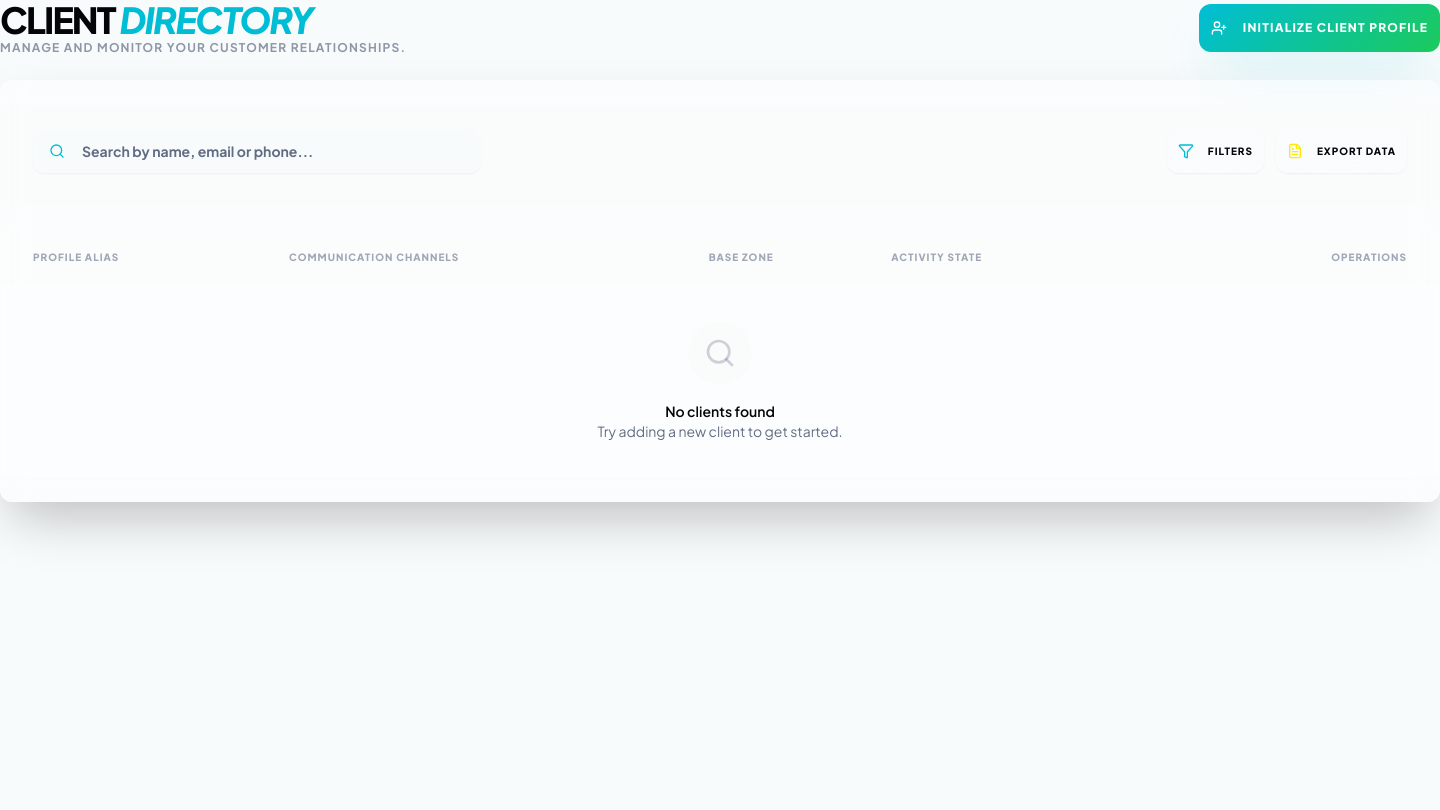
Test: ClientsPage › should open new client sheet when button is clicked
This screenshot has width=1440, height=810.
Click the button "Initialize Client Profile" at (1319, 28), box [1199, 4, 1439, 52]
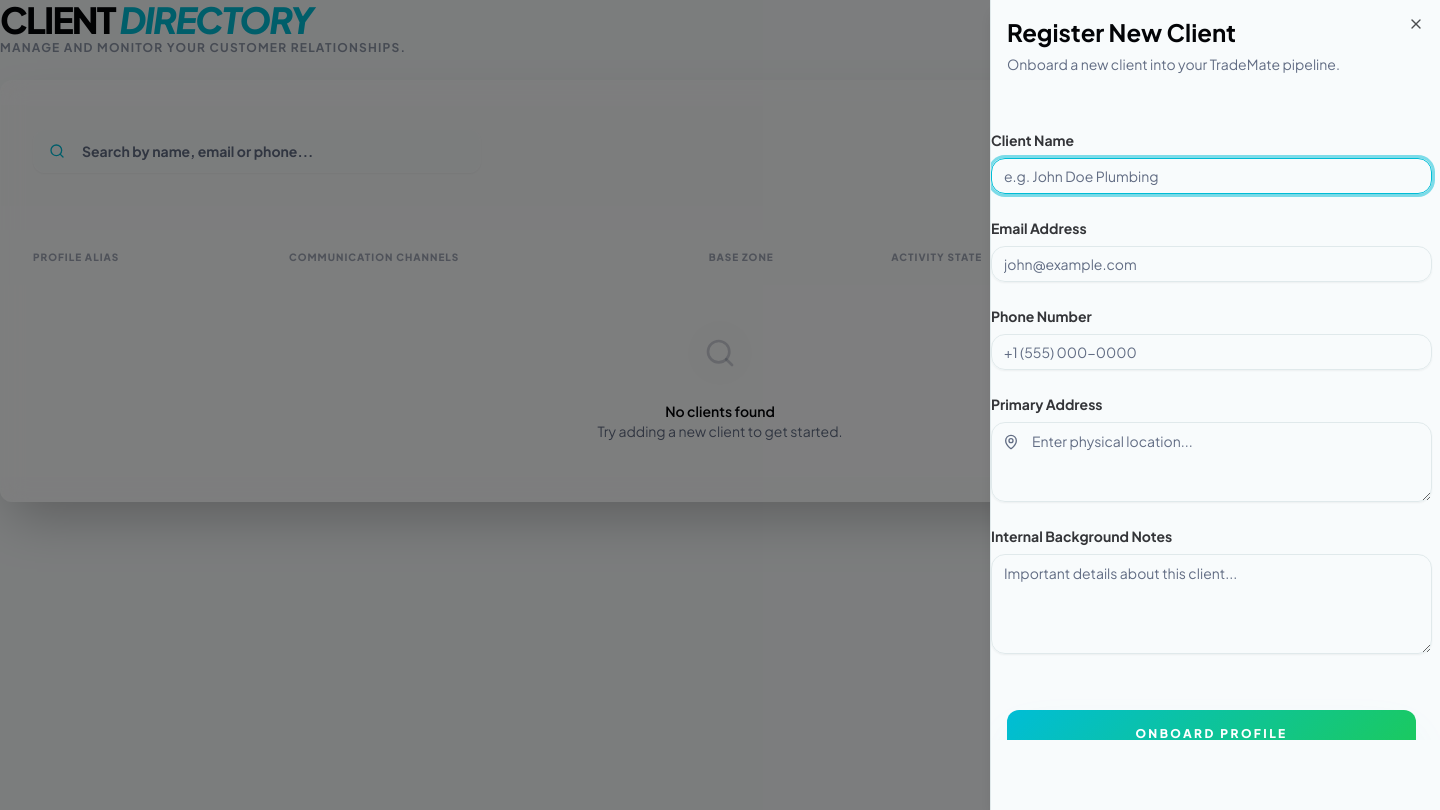
Expected: the heading "Register New Client" is shown, [1007, 17, 1236, 47]
